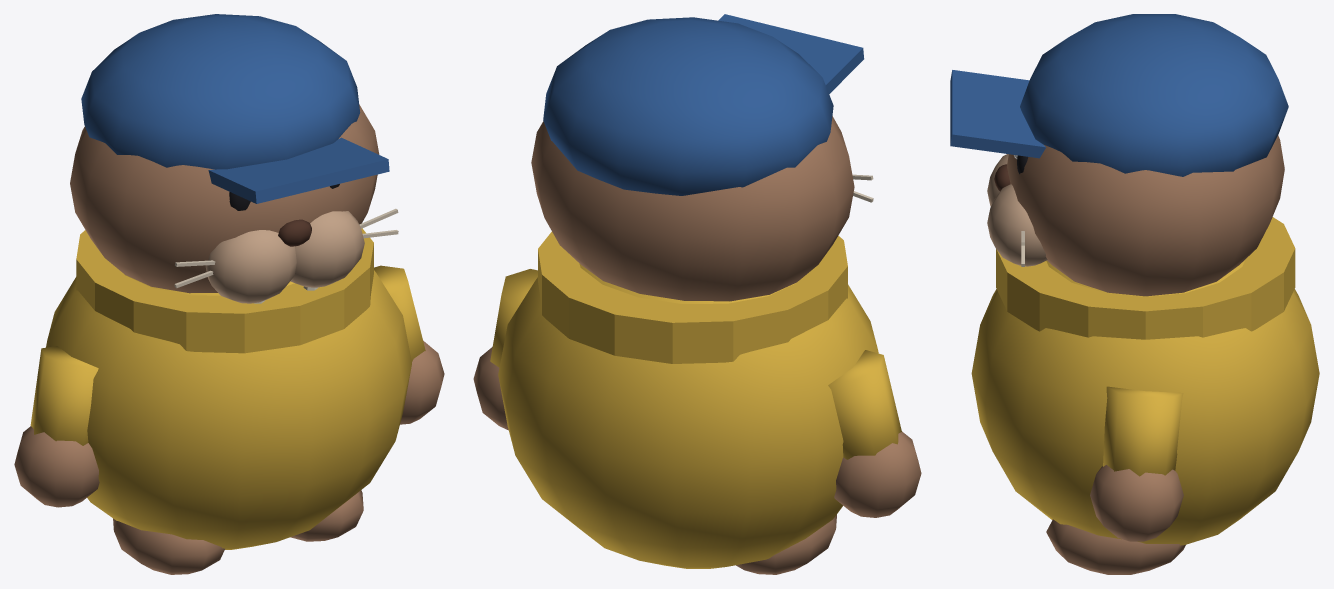
Rendered from walrus.glb.
3 views of the same model, side by side, from view 1: azimuth 30°, elevation 25°; view 2: azimuth 150°, elevation 25°; view 3: azimuth 270°, elevation 25° (orthographic). The views are drawn at different scales.
Parts seen in each view (by area): view 1: body, hat, head, collar, arm_R, arm_L, leg_R, leg_L; view 2: body, hat, head, collar, arm_R, arm_L, leg_R; view 3: body, hat, head, collar, arm_L, leg_L.
Boxes of the visible parts, x1,y1,x2,y2 form: body: (46,270,411,549); hat: (81,14,389,203); head: (70,104,398,303); collar: (76,228,373,353); arm_R: (14,346,99,507); arm_L: (374,265,444,424); leg_R: (113,518,224,574); leg_L: (290,490,363,541); body: (498,263,878,568); hat: (543,14,864,195); head: (531,116,873,301); collar: (538,231,847,363); arm_R: (828,350,921,517); arm_L: (473,269,537,430); leg_R: (736,514,836,574); body: (971,259,1319,545); hat: (950,14,1288,176); head: (987,135,1284,296); collar: (996,217,1295,339); arm_L: (1090,386,1183,541); leg_L: (1046,519,1185,574).
Bounding box in the file's own units: 1.1 × 1.27 × 0.849.
